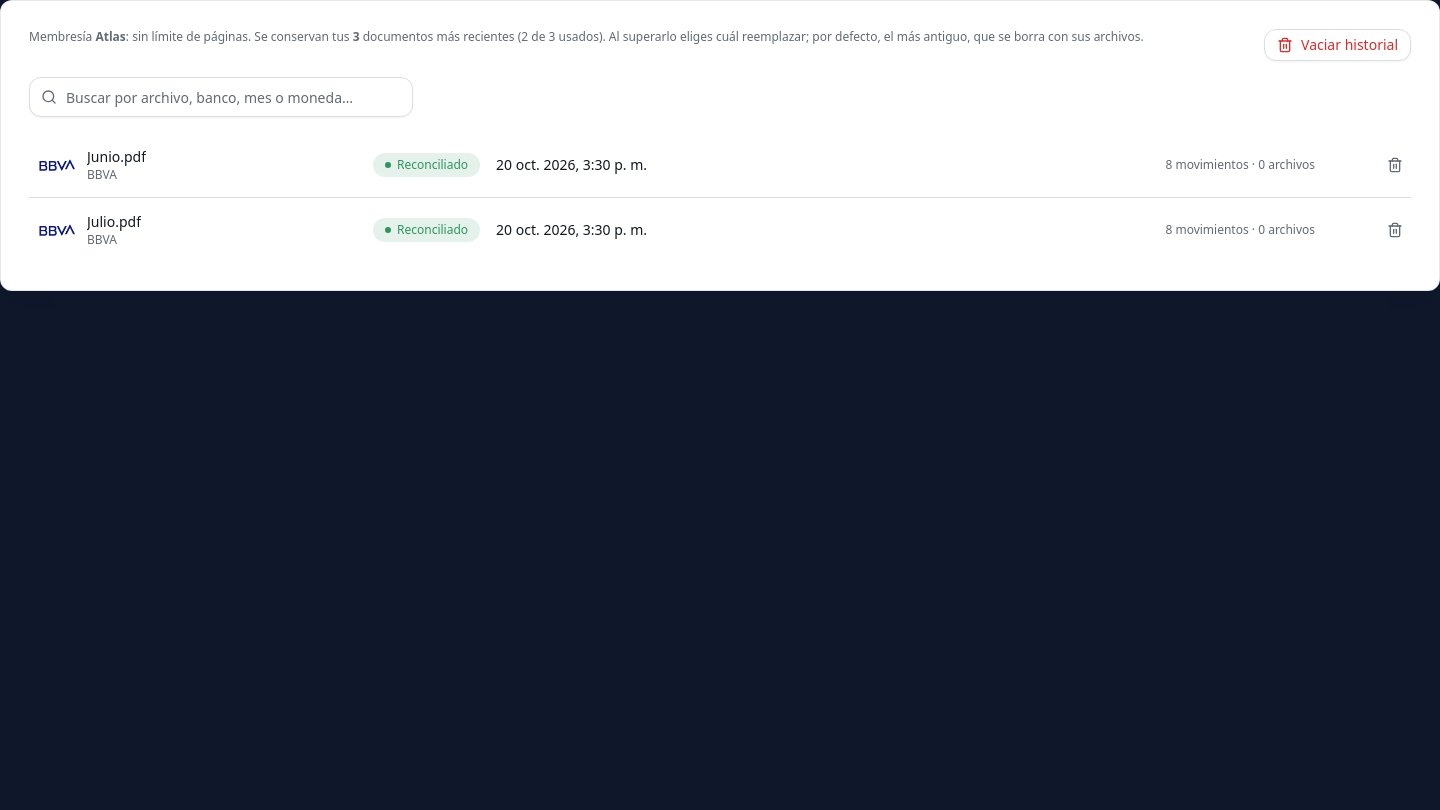
Borrar documentos del historial › cancelar no borra nada
Click the button named "Borrar Julio.pdf".
click(1395, 230)  # box x1=1379 y1=214 x2=1411 y2=246
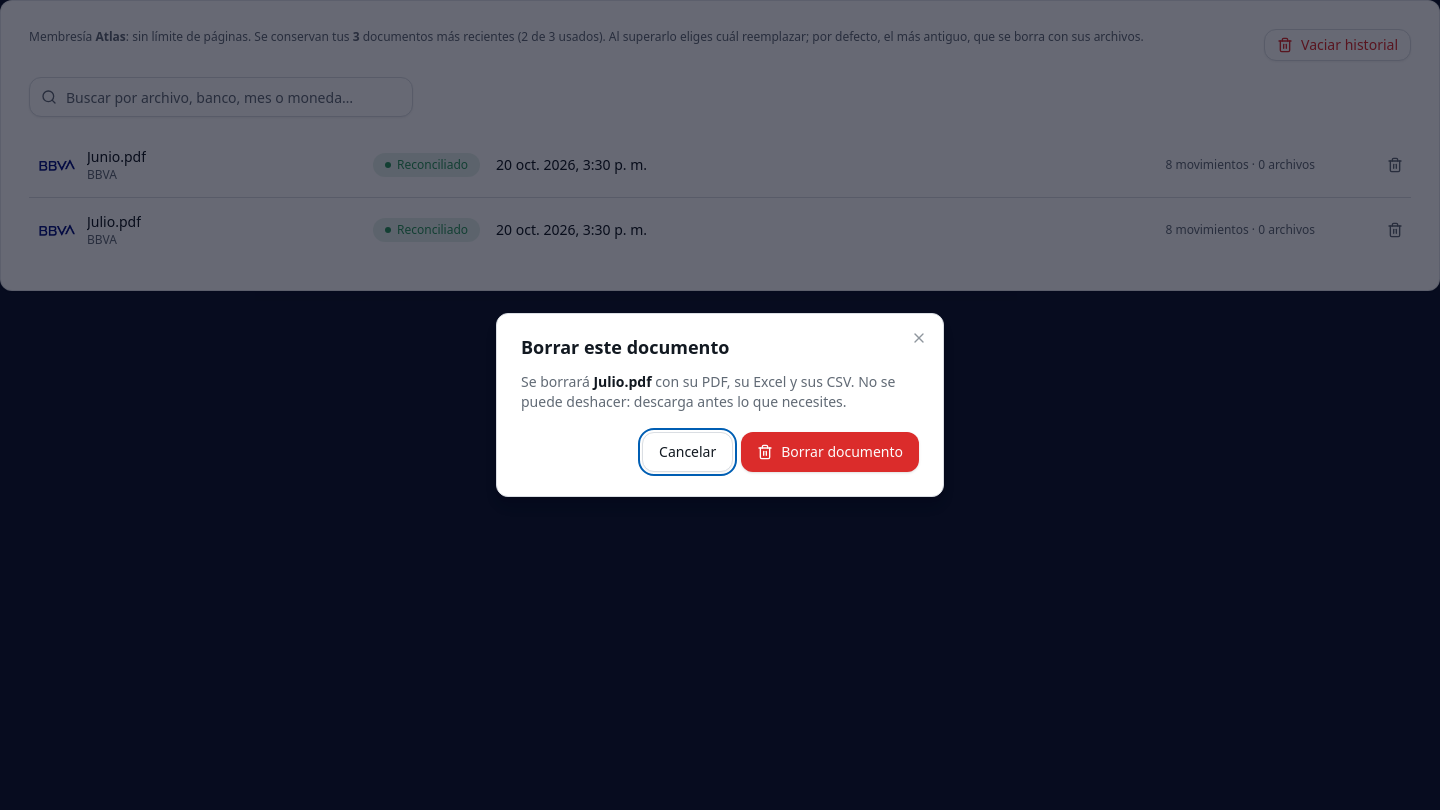
Click the button "Cancelar".
click(688, 452)  # box x1=642 y1=432 x2=733 y2=472
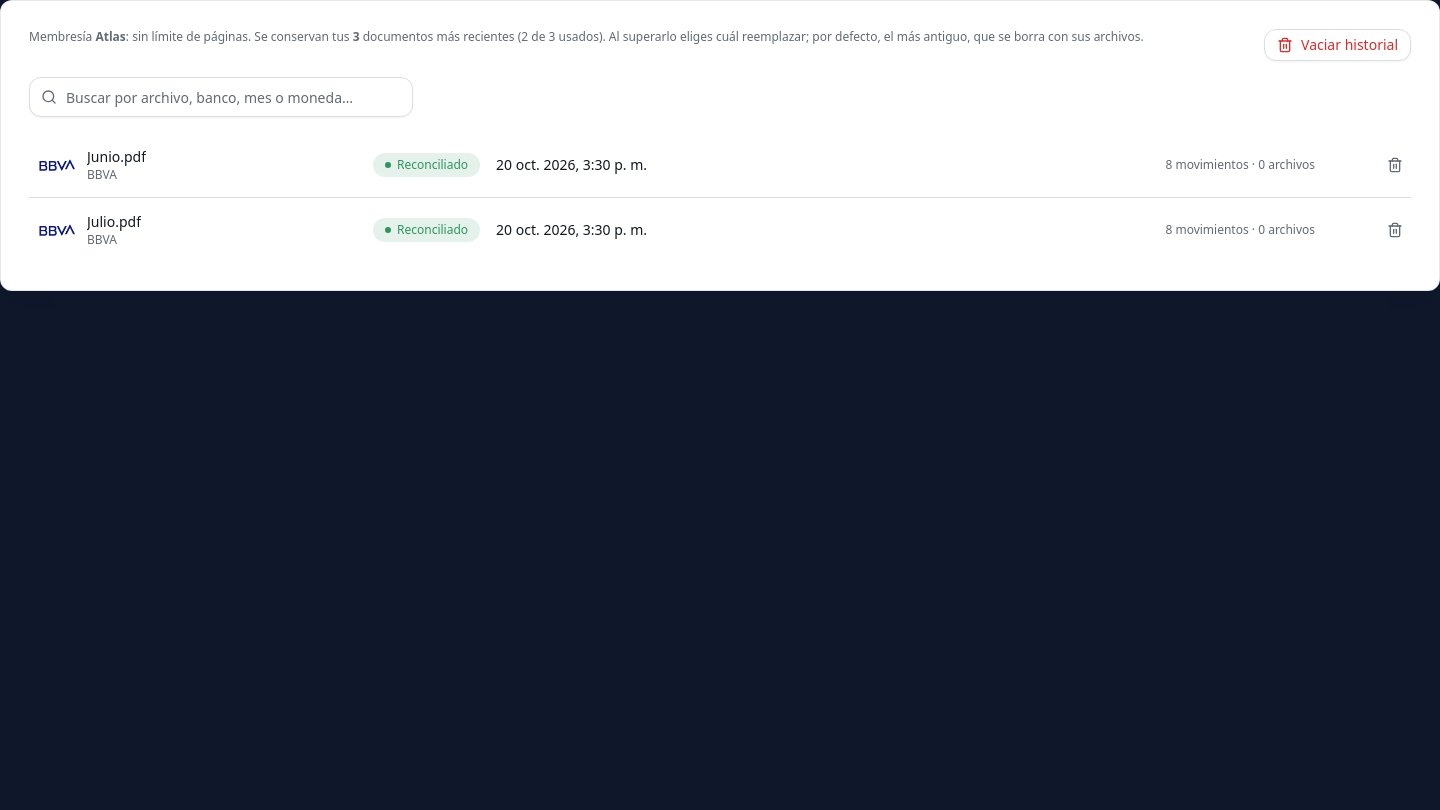
Now the dialog is gone
